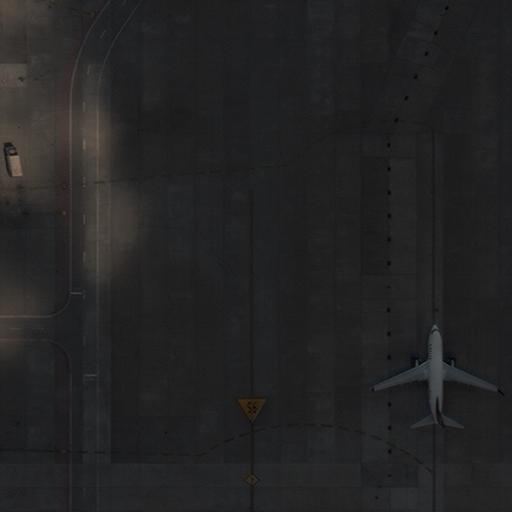Medium Civil Transport: (371, 321, 497, 432)
